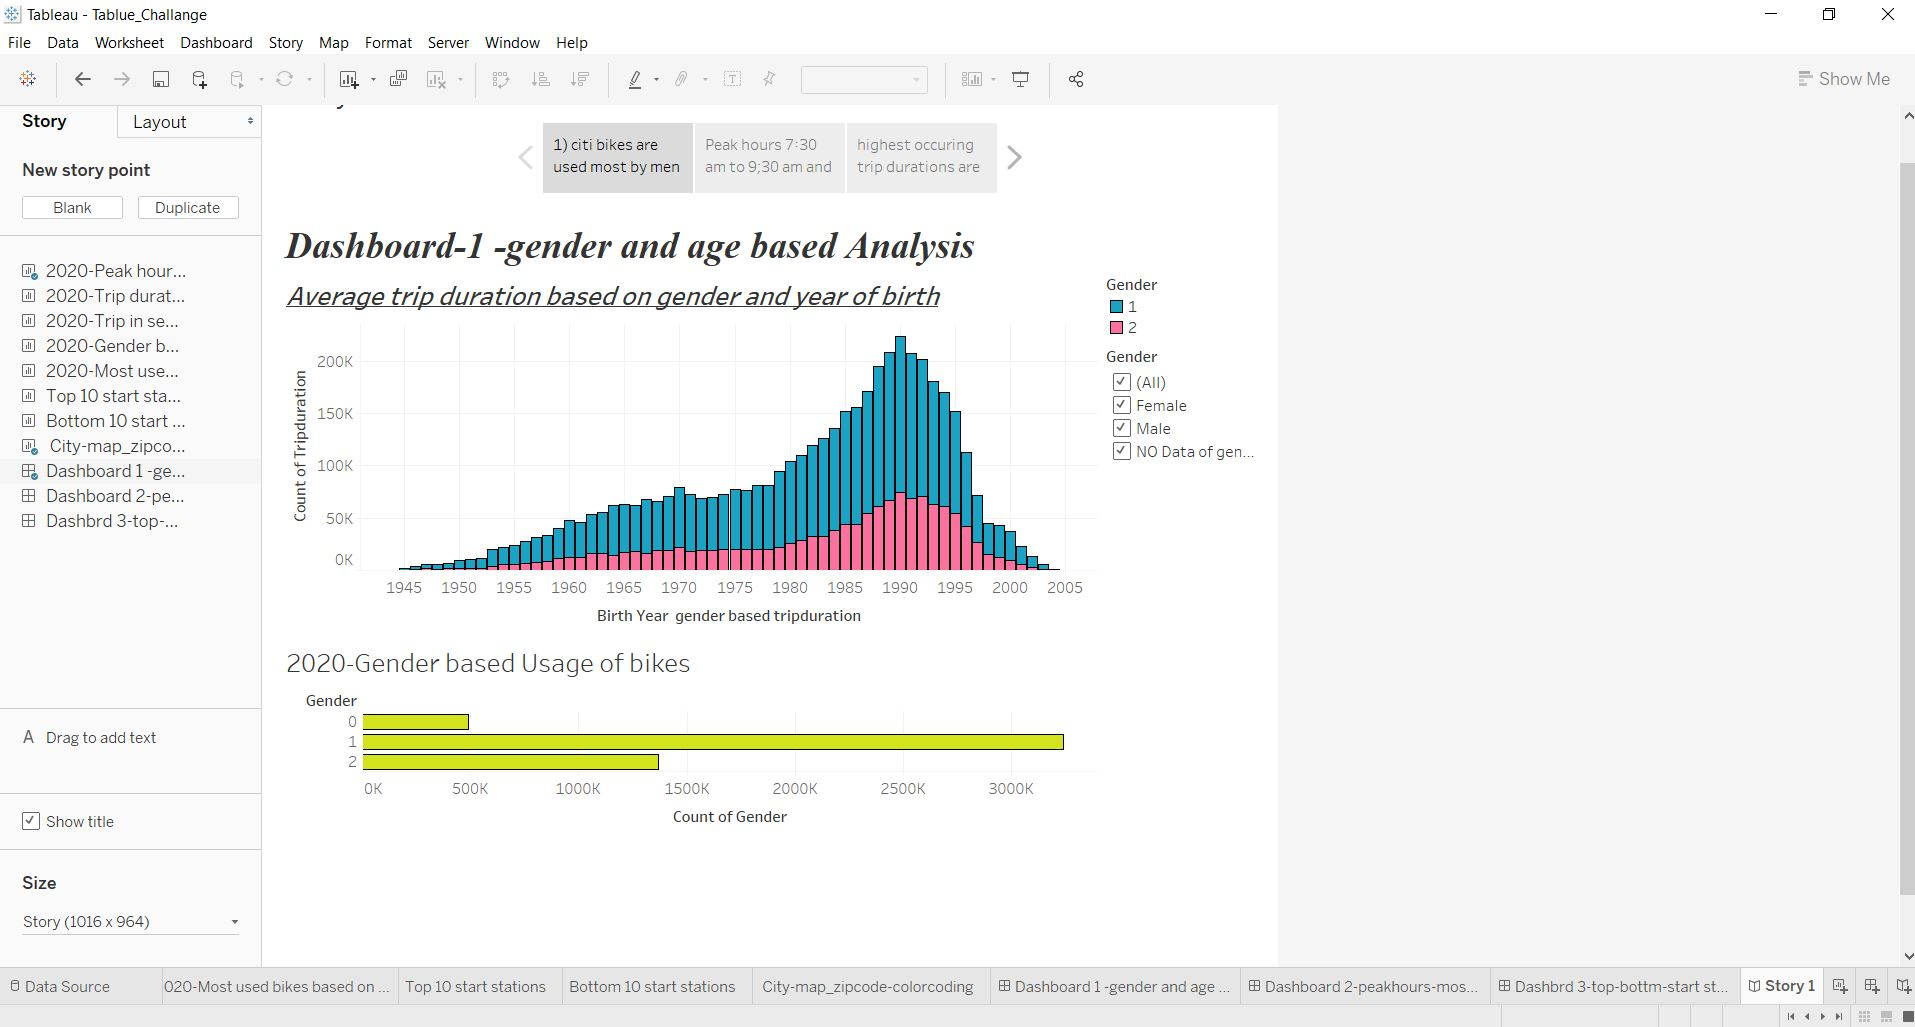

The page's visual inventory and layout, read from the dashboard file:
{"tool":"tableau","page":{"name":"Dashboard 1 -gender and age bsed","canvas":[1000,800],"ordinal":0},"visuals":[{"type":"worksheet","box":[0,0,1000,800]},{"type":"worksheet","param":"vert","box":[8,8,984,784]},{"type":"worksheet","box":[8,8,984,49]},{"type":"worksheet","param":"vert","box":[8,57,984,735]},{"type":"worksheet","param":"horz","box":[8,57,984,735]},{"type":"worksheet","box":[8,57,824,735]},{"type":"worksheet","title":"2020-Trip duration based on gender and birth year","mark":"Bar","rows":["tripduration"],"cols":["birth year"],"box":[8,57,824,367.5]},{"type":"worksheet","param":"vert","box":[832,57,160,735]},{"type":"worksheet","title":"2020-Trip duration based on gender and birth year","mark":"Bar","rows":["tripduration"],"cols":["birth year"],"param":"[federated.0ddsn1i1cwlo6c1bdmey20t8cij2].[none:gender:nk]","box":[832,57,160,72]},{"type":"worksheet","title":"2020-Gender based Usage of bikes","mark":"Automatic","rows":["gender"],"cols":["gender"],"param":"[federated.0ddsn1i1cwlo6c1bdmey20t8cij2].[none:gender:nk]","box":[832,129,160,128]},{"type":"worksheet","title":"2020-Gender based Usage of bikes","mark":"Automatic","rows":["gender"],"cols":["gender"],"box":[8,424.5,824,367.5]}]}

Visuals, with their boxes on the page's 1000x800 design canvas (x1, y1, x2, y2). These are canvas units, not pixel positions in the 1915x1027 screenshot, which may show the page scaled, cropped or inside an application window:
worksheet: <region>0, 0, 1000, 800</region>
worksheet: <region>8, 8, 992, 792</region>
worksheet: <region>8, 8, 992, 57</region>
worksheet: <region>8, 57, 992, 792</region>
worksheet: <region>8, 57, 992, 792</region>
worksheet: <region>8, 57, 832, 792</region>
"2020-Trip duration based on gender and birth year" worksheet (Bar marks): <region>8, 57, 832, 424</region>
worksheet: <region>832, 57, 992, 792</region>
"2020-Trip duration based on gender and birth year" worksheet (Bar marks): <region>832, 57, 992, 129</region>
"2020-Gender based Usage of bikes" worksheet: <region>832, 129, 992, 257</region>
"2020-Gender based Usage of bikes" worksheet: <region>8, 424, 832, 792</region>
